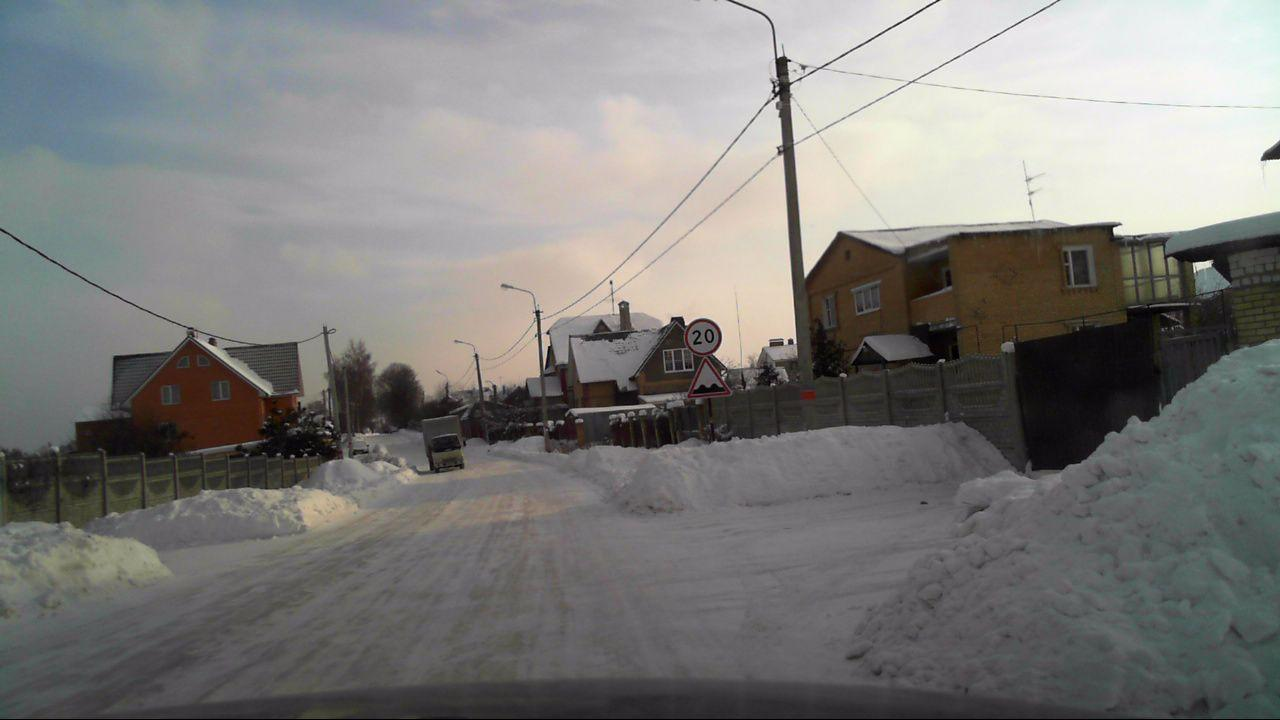1_16: (686, 357, 732, 397)
3_24: (682, 319, 724, 355)
